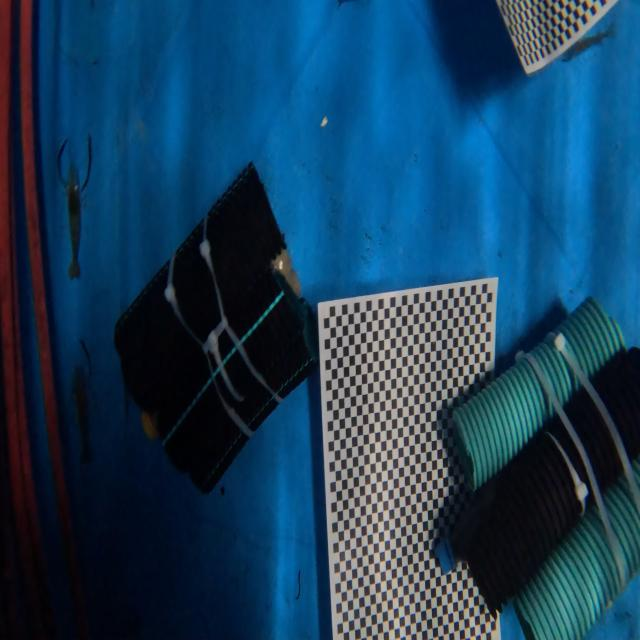prawn: (51, 133, 98, 280), (59, 333, 104, 454)
